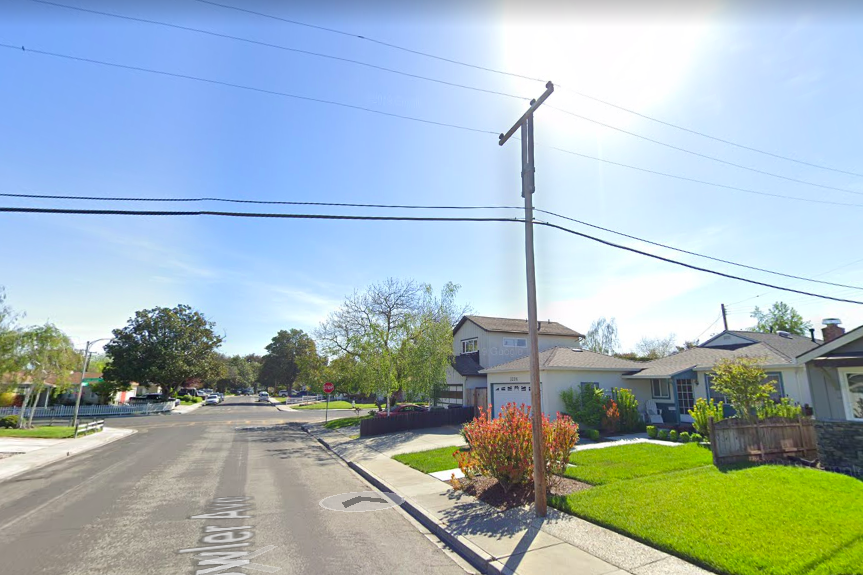utility_pole: (488, 70, 565, 204)
